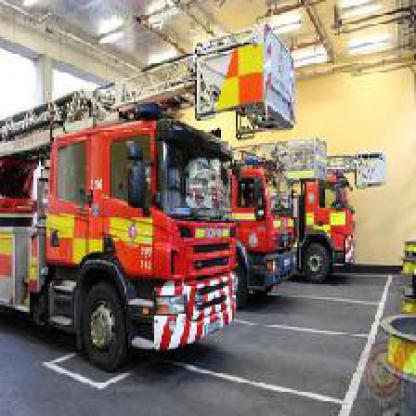emergency: (2, 106, 369, 410)
